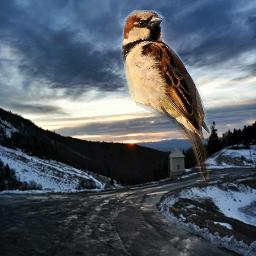Swallow: (120, 10, 210, 182)
